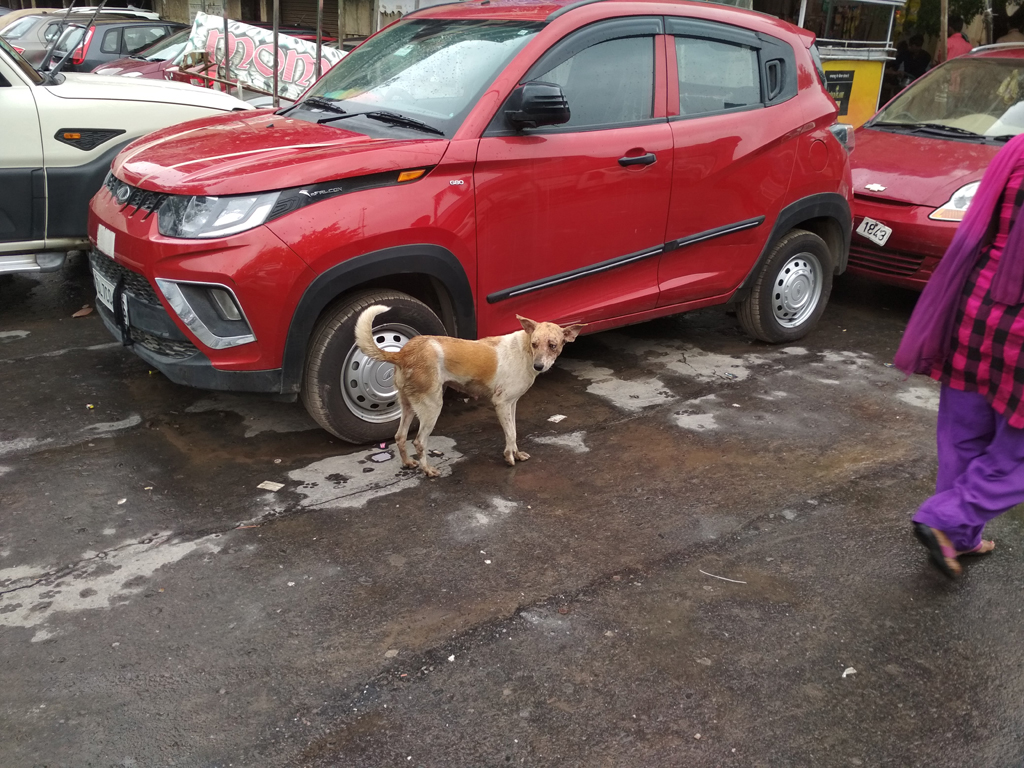dog: (356, 304, 587, 478)
